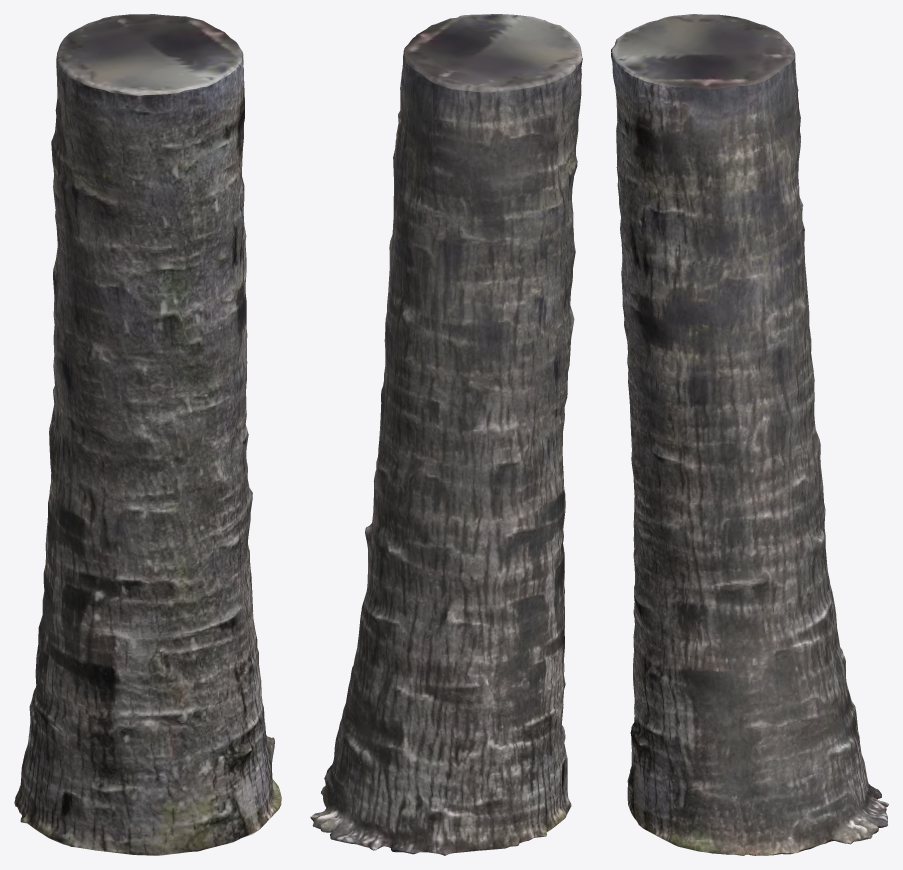
Rendered from tree-date-hero.glb.
3 views of the same model, side by side, from view 1: azimuth 30°, elevation 25°; view 2: azimuth 150°, elevation 25°; view 3: azimuth 270°, elevation 25° (orthographic). The views are drawn at different scales.
Visible parts, largest first — view 1: tree-date-hero; view 2: tree-date-hero; view 3: tree-date-hero.
Part boxes in pixels (x1,y1,x2,y2): tree-date-hero: (14, 14, 281, 855); tree-date-hero: (310, 14, 582, 855); tree-date-hero: (611, 14, 888, 855).
Size of the model in its own units: 4.66 by 15 by 5.09.
Materials: 1 (1 with a texture image).
